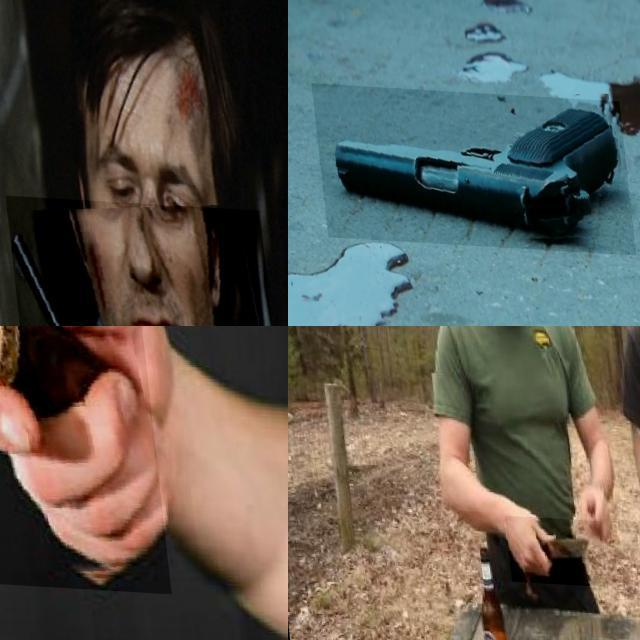-: (0, 326, 219, 589), (495, 513, 597, 583)
gun-knife-thesis - v11 Yolov5 augmented: (305, 80, 627, 249), (0, 193, 285, 326)
